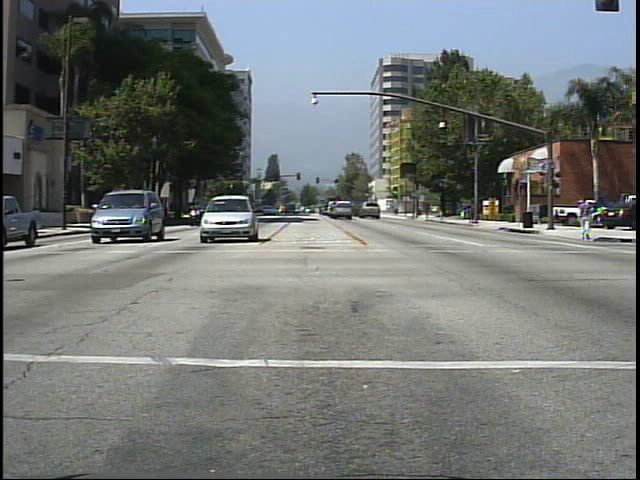person: (575, 194, 598, 243)
